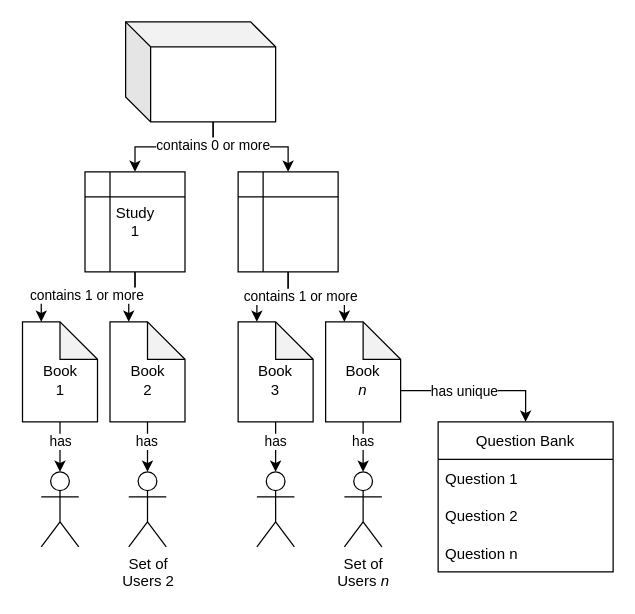
This 635x614 diagram has some shape labels left out. The shapes that lost their labels are listed below. From the top down, each one's centre as x and y in pixels, then its label:
At (200,71): "School 1".
At (287,221): "Study n".
At (59,509): "Set of Users 1".
At (275,509): "Set of Users 3".
